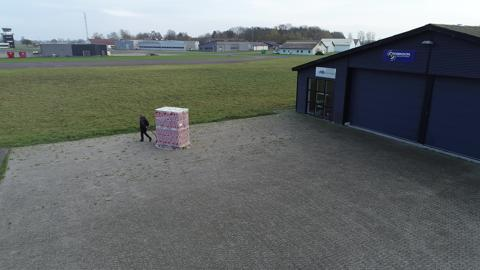RockwoolPallet: (155, 106, 191, 149)
